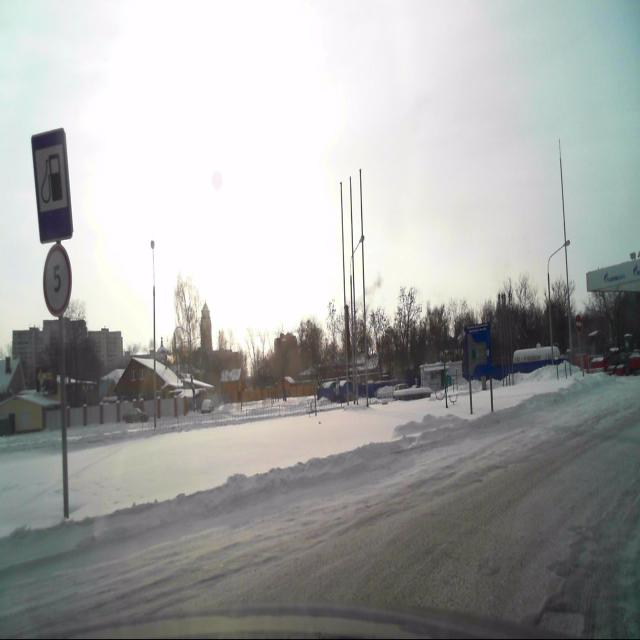road sign: (30, 128, 74, 246), (59, 313, 68, 521), (578, 335, 586, 380)
